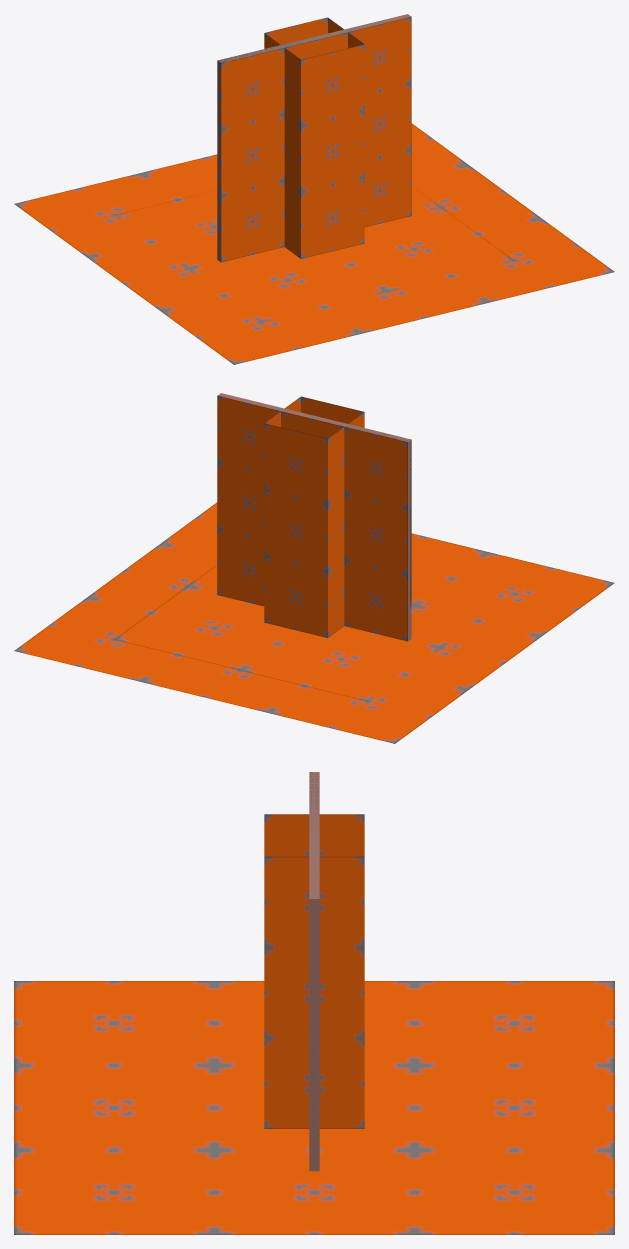
File: BNG_E_Orange.fbx
3 views of the same model, one above another, from view 1: azimuth 30°, elevation 25°; view 2: azimuth 150°, elevation 25°; view 3: azimuth 270°, elevation 25° (orthographic). The views are drawn at different scales.
Parts seen in each view (by area): view 1: BNG_E_Floor_3x3_Orange, BNG_E_Floor_2x2_Orange, BNG_E_Pillar_Orange, BNG_E_Windowrame_One_Orange, BNG_E_Windowrame_Double_Orange, BNG_E_DoorFrame_One_Orange, BNG_E_DoorFrame_Double_Orange, BNG_E_Wall_Full_Orange; view 2: BNG_E_Floor_3x3_Orange, BNG_E_DoorFrame_One_Orange, BNG_E_Floor_2x2_Orange, BNG_E_Pillar_Orange, BNG_E_DoorFrame_Double_Orange, BNG_E_Wall_Full_Orange; view 3: BNG_E_Floor_3x3_Orange, BNG_E_Pillar_Orange, BNG_E_DoorFrame_One_Orange, BNG_E_Floor_2x2_Orange, BNG_E_Wall_Full_Orange.
Part boxes in pixels (<box>): BNG_E_Floor_3x3_Orange: <box>14,123,614,364</box>; BNG_E_Floor_2x2_Orange: <box>114,185,513,322</box>; BNG_E_Pillar_Orange: <box>264,17,364,258</box>; BNG_E_Windowrame_One_Orange: <box>221,18,411,262</box>; BNG_E_Windowrame_Double_Orange: <box>217,17,411,262</box>; BNG_E_DoorFrame_One_Orange: <box>217,16,411,260</box>; BNG_E_DoorFrame_Double_Orange: <box>217,14,410,246</box>; BNG_E_Wall_Full_Orange: <box>217,15,405,146</box>; BNG_E_Floor_3x3_Orange: <box>14,502,614,743</box>; BNG_E_DoorFrame_One_Orange: <box>217,393,411,641</box>; BNG_E_Floor_2x2_Orange: <box>114,564,509,701</box>; BNG_E_Pillar_Orange: <box>264,396,364,637</box>; BNG_E_DoorFrame_Double_Orange: <box>217,402,410,640</box>; BNG_E_Wall_Full_Orange: <box>222,396,411,607</box>; BNG_E_Floor_3x3_Orange: <box>14,981,614,1234</box>; BNG_E_Pillar_Orange: <box>264,814,364,1128</box>; BNG_E_DoorFrame_One_Orange: <box>309,772,319,1171</box>; BNG_E_Floor_2x2_Orange: <box>114,1023,513,1090</box>; BNG_E_Wall_Full_Orange: <box>309,772,319,1153</box>.
Size of the model in its own units: 600 by 300 by 600.
